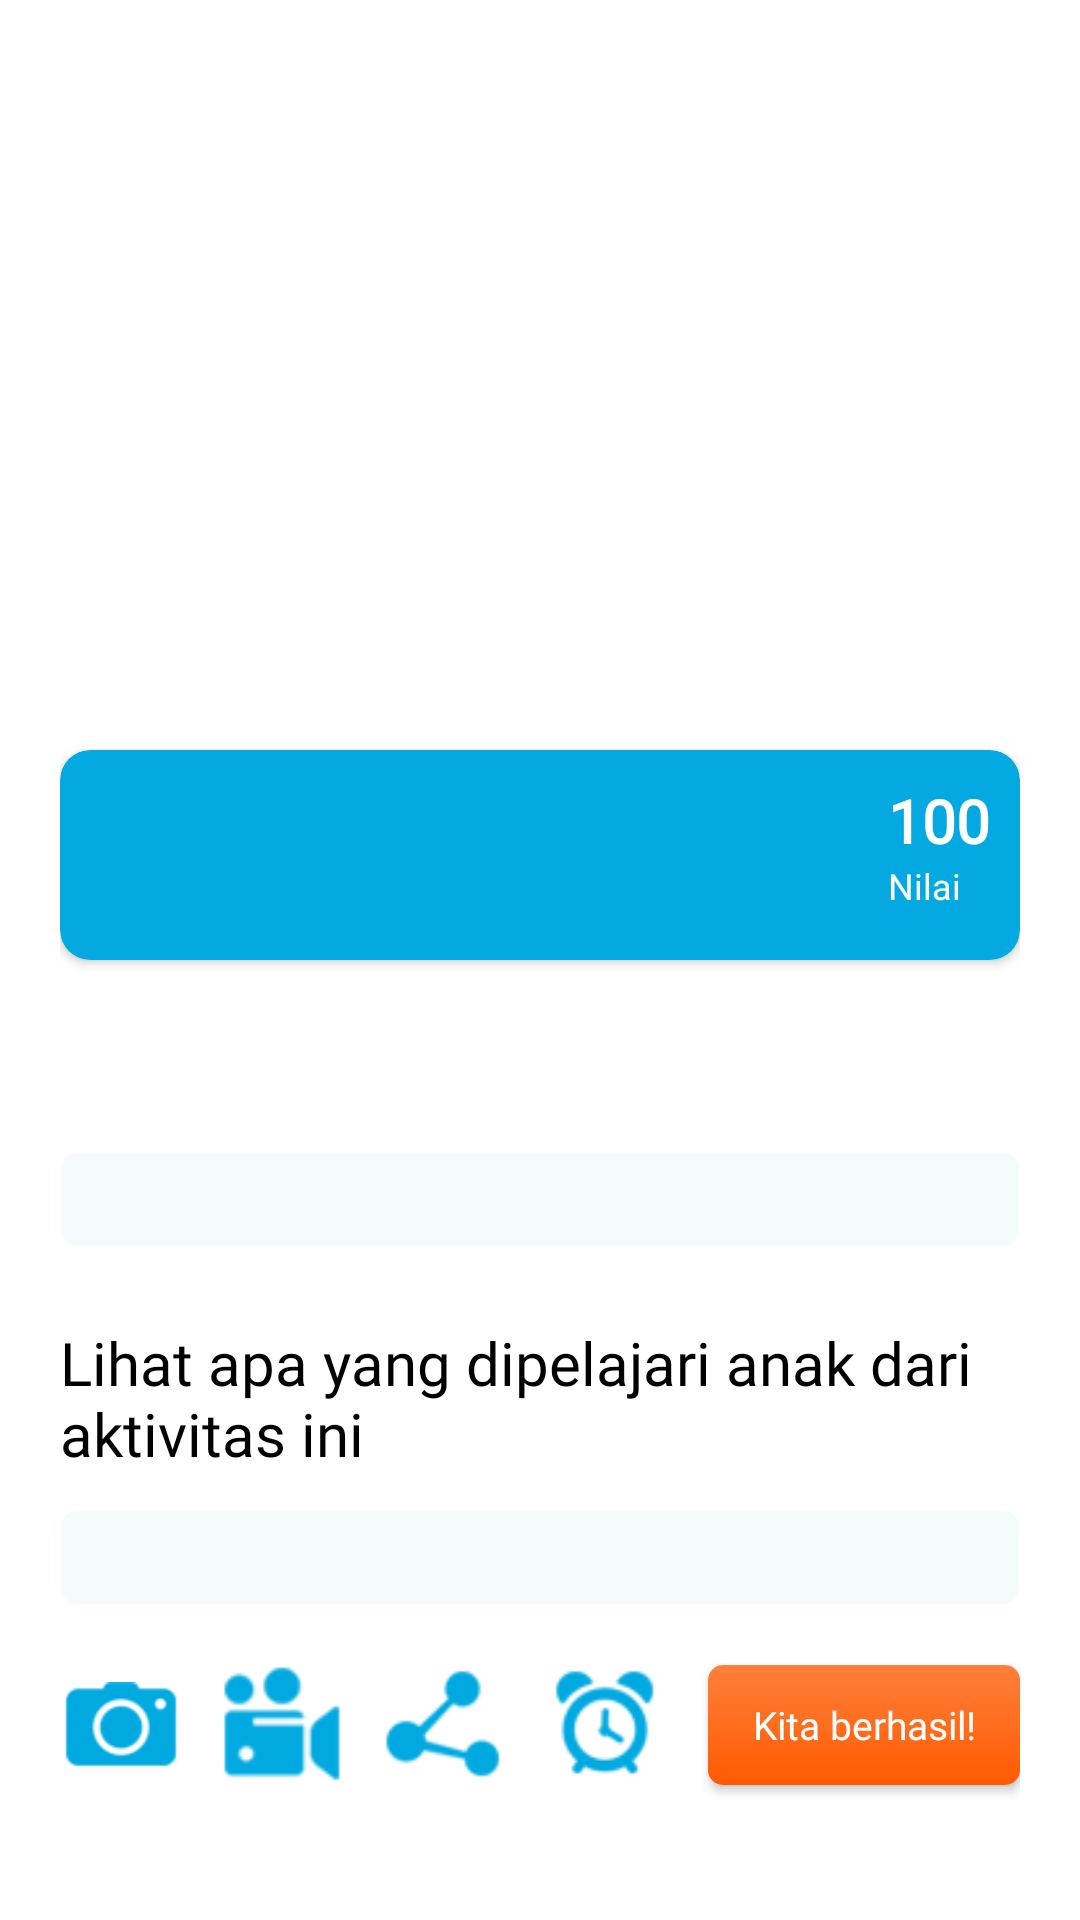

Icons on this 1080x1920 Android screen, each with the point to tap as (x,y):
alarm: (604,1722)
camera: (121,1724)
share: (443,1723)
video: (282,1723)
